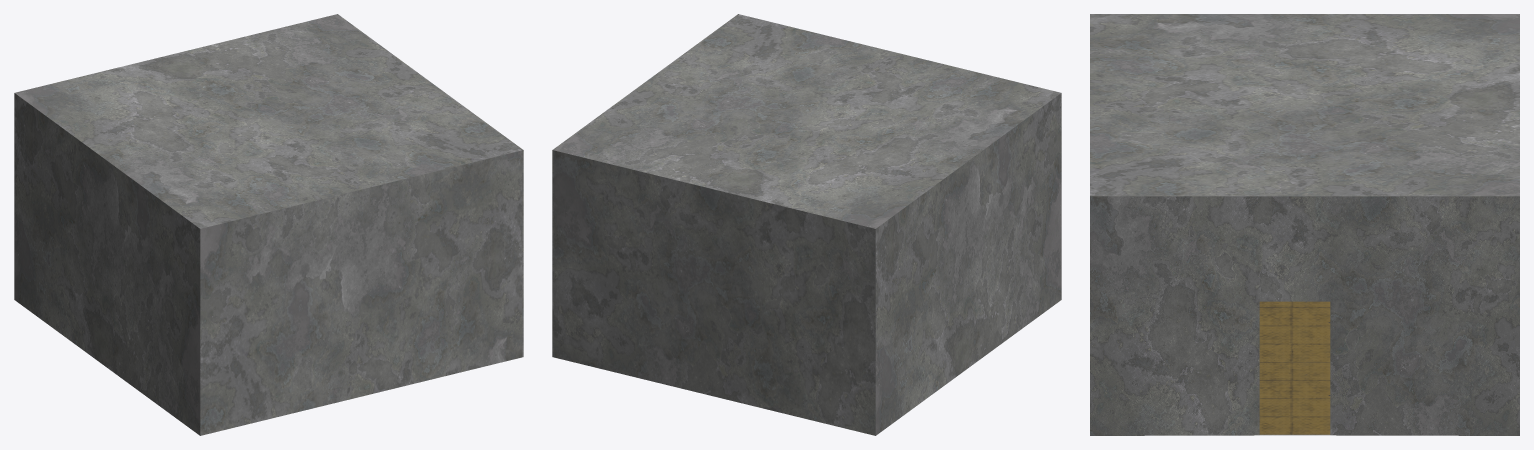
Rendered from room_hole_floor.obj.
3 renders of one model, left to right at view 1: azimuth 30°, elevation 25°; view 2: azimuth 150°, elevation 25°; view 3: azimuth 270°, elevation 25°, orthographic. The views are drawn at different scales.
Parts seen in each view (by area): view 1: Cube.010_Cube.016; view 2: Cube.010_Cube.016; view 3: Cube.010_Cube.016.
Part boxes in pixels (x1,y1,x2,y2): Cube.010_Cube.016: [14, 14, 523, 435]; Cube.010_Cube.016: [552, 14, 1061, 435]; Cube.010_Cube.016: [1090, 14, 1519, 435].
Bounding box in the file's own units: 5.75 × 3.64 × 5.73.
2 materials, 2 textured.
